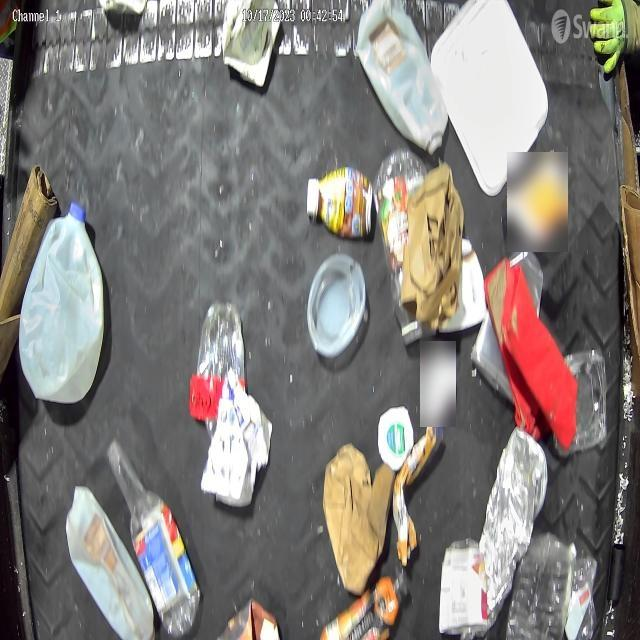milk_jug: (18, 199, 106, 409), (354, 0, 449, 156), (66, 483, 154, 639)
plastic_bottle: (472, 426, 548, 640), (377, 152, 427, 346)
